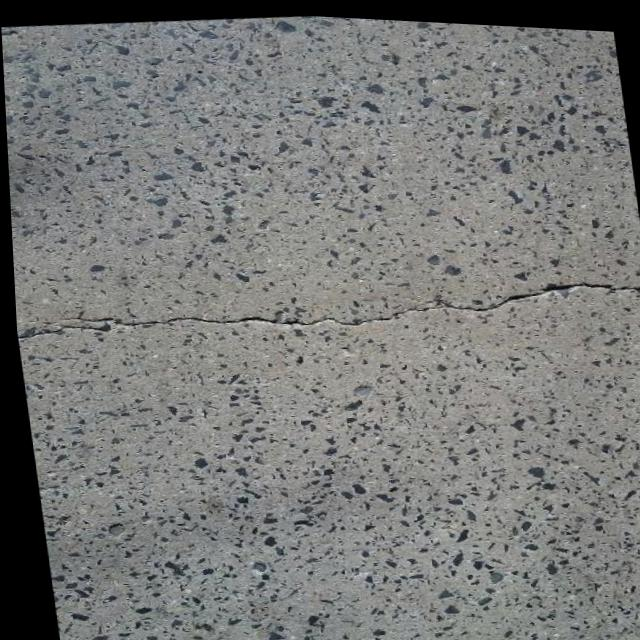Crack: (10, 235, 640, 371)
